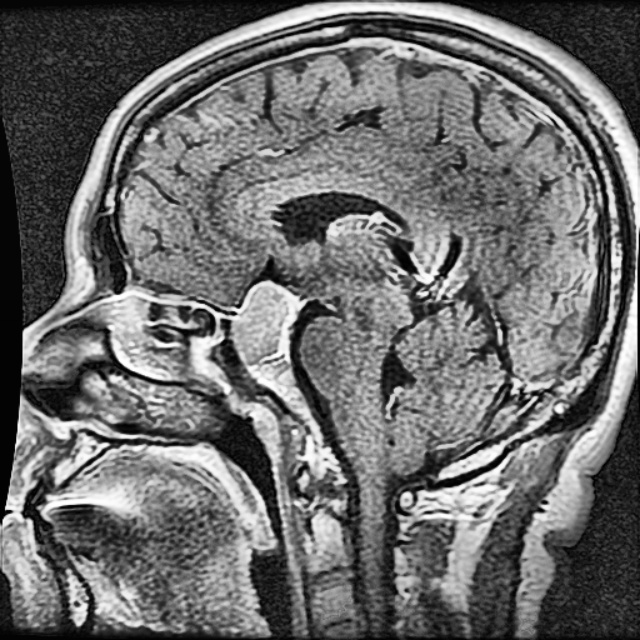Pituitary: (230, 283, 300, 363)
